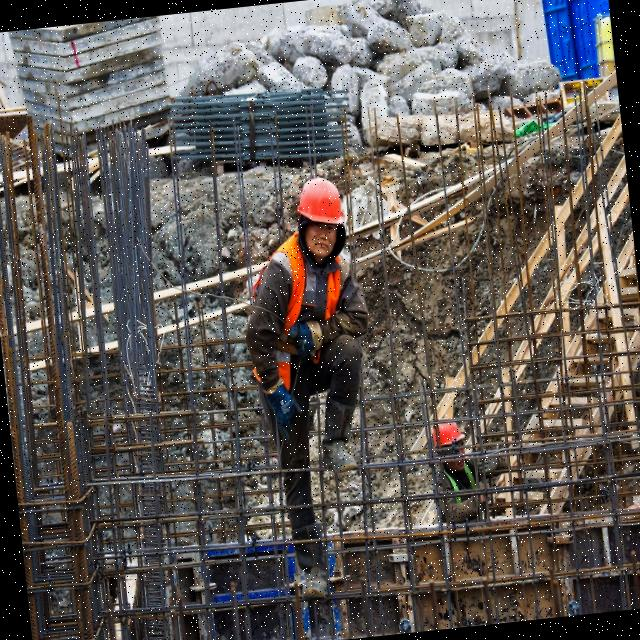Helmet: (262, 236, 358, 386), (295, 176, 348, 235)
